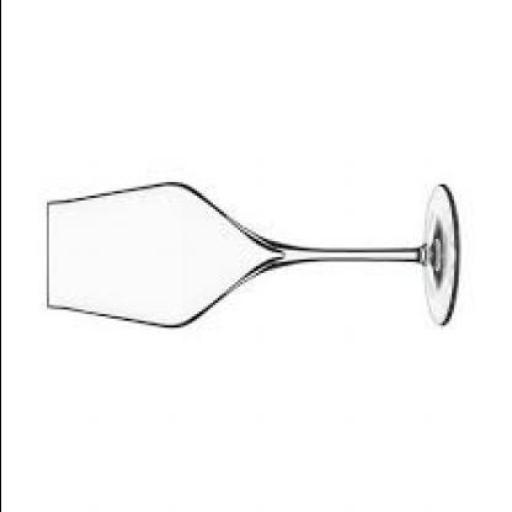glass: (44, 185, 454, 332)
